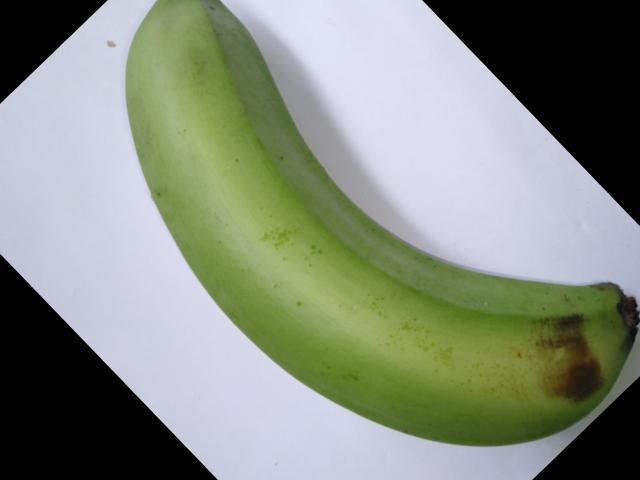freshunripe: (106, 0, 639, 475)
